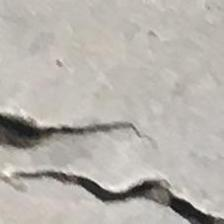Crack: (0, 104, 224, 220)
